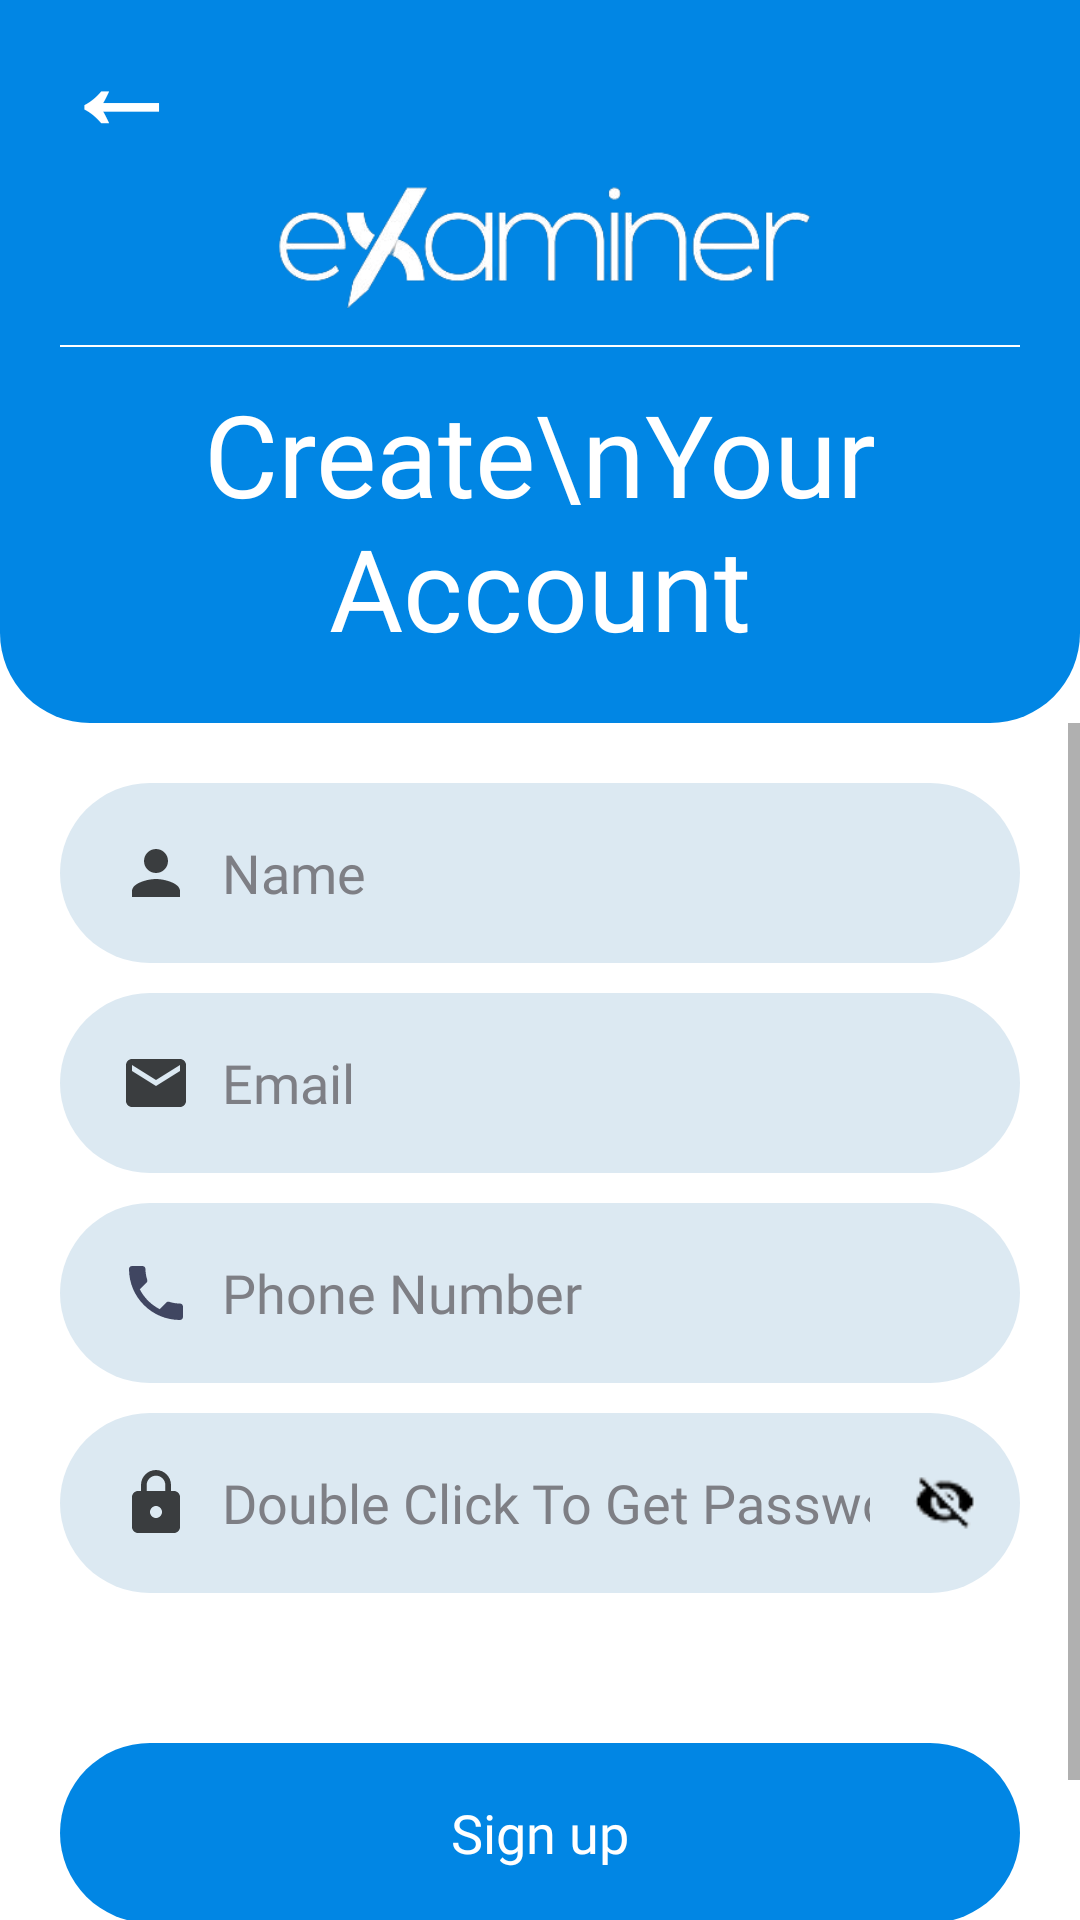

Where icons sit on this 1080x1920 app screen, as detection(x1, y1, x2, y2):
invisi eye: detection(870, 1413, 1020, 1593)
